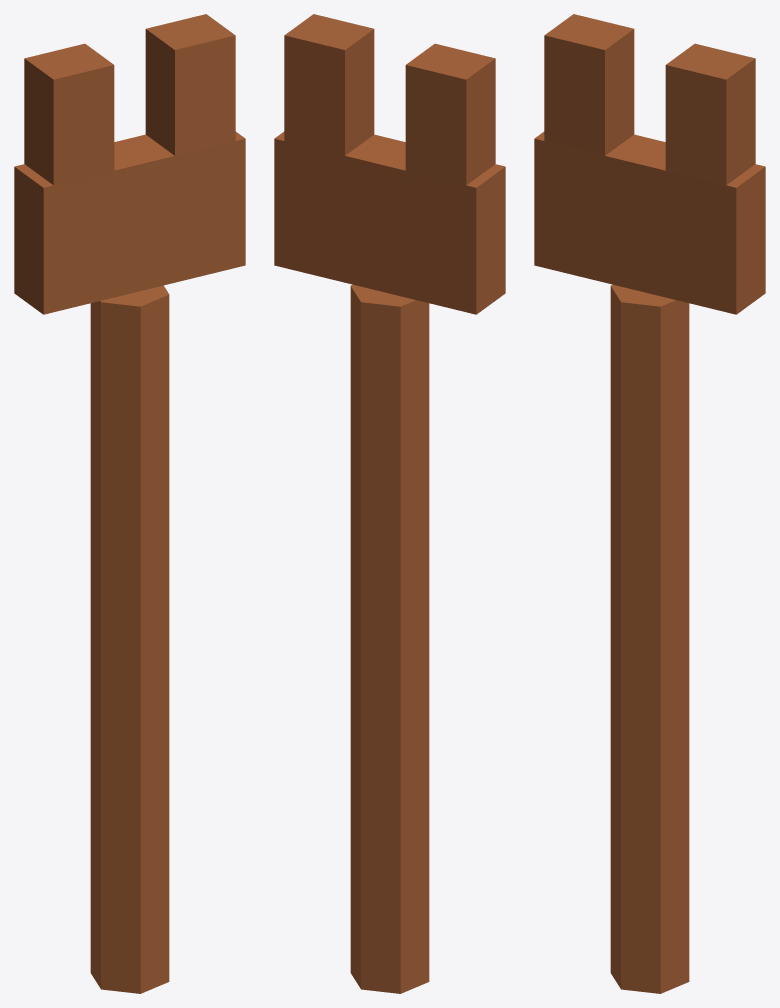
File: gear_wrench.glb
3 views of the same model, side by side, from view 1: azimuth 30°, elevation 25°; view 2: azimuth 150°, elevation 25°; view 3: azimuth 330°, elevation 25° (orthographic).
Visible parts, largest first — view 1: gear_wrench; view 2: gear_wrench; view 3: gear_wrench.
Part boxes in pixels (x1,y1,x2,y2): gear_wrench: (14, 14, 245, 993); gear_wrench: (274, 14, 505, 993); gear_wrench: (534, 14, 765, 993).
Bounding box in the file's own units: 0.12 × 0.528 × 0.0406.
